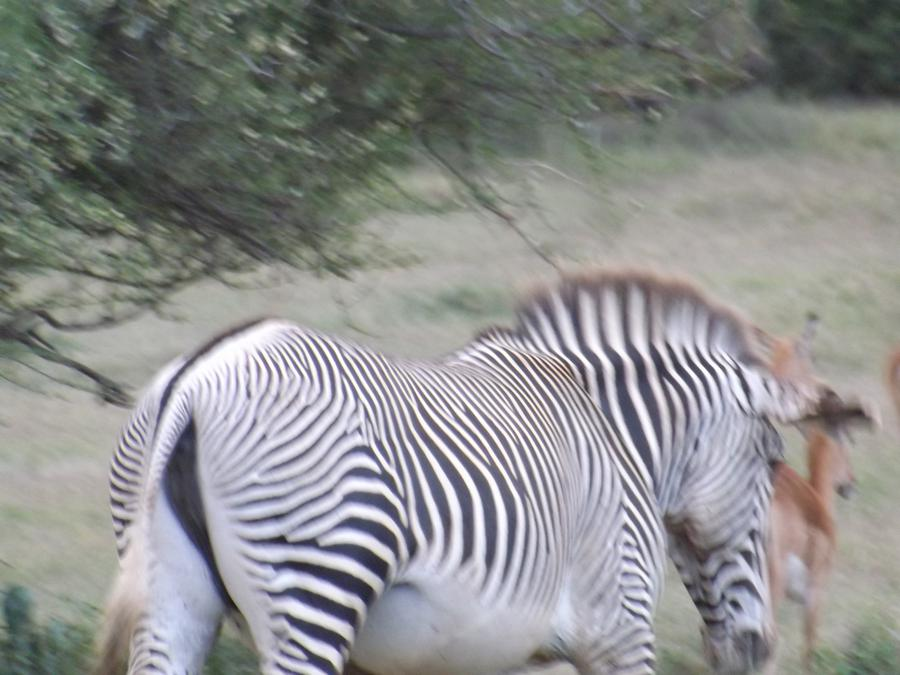zebra_grevys: (178, 305, 663, 618)
